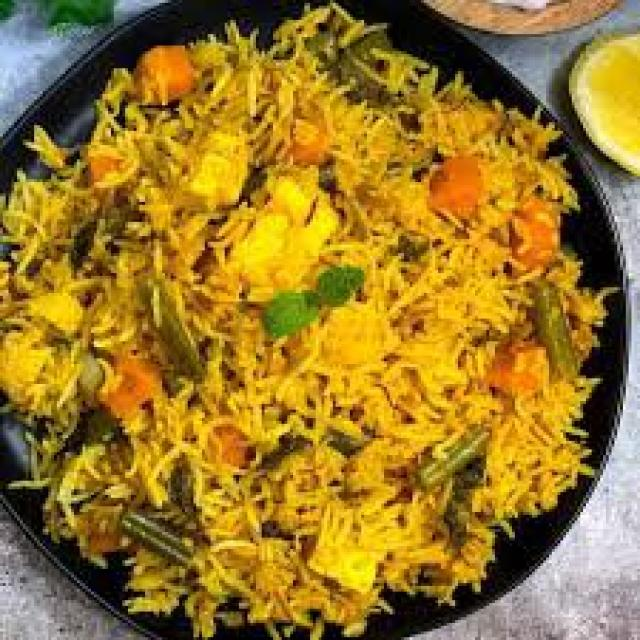veg biryani: (103, 55, 550, 598)
